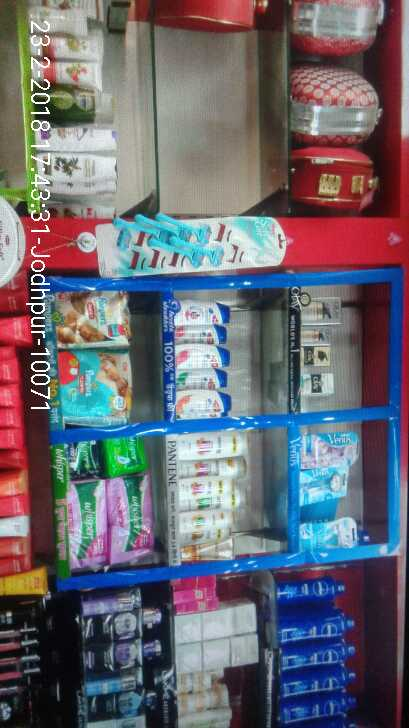venus: (98, 215, 288, 265), (300, 468, 347, 504), (303, 518, 359, 547), (300, 434, 358, 462)
